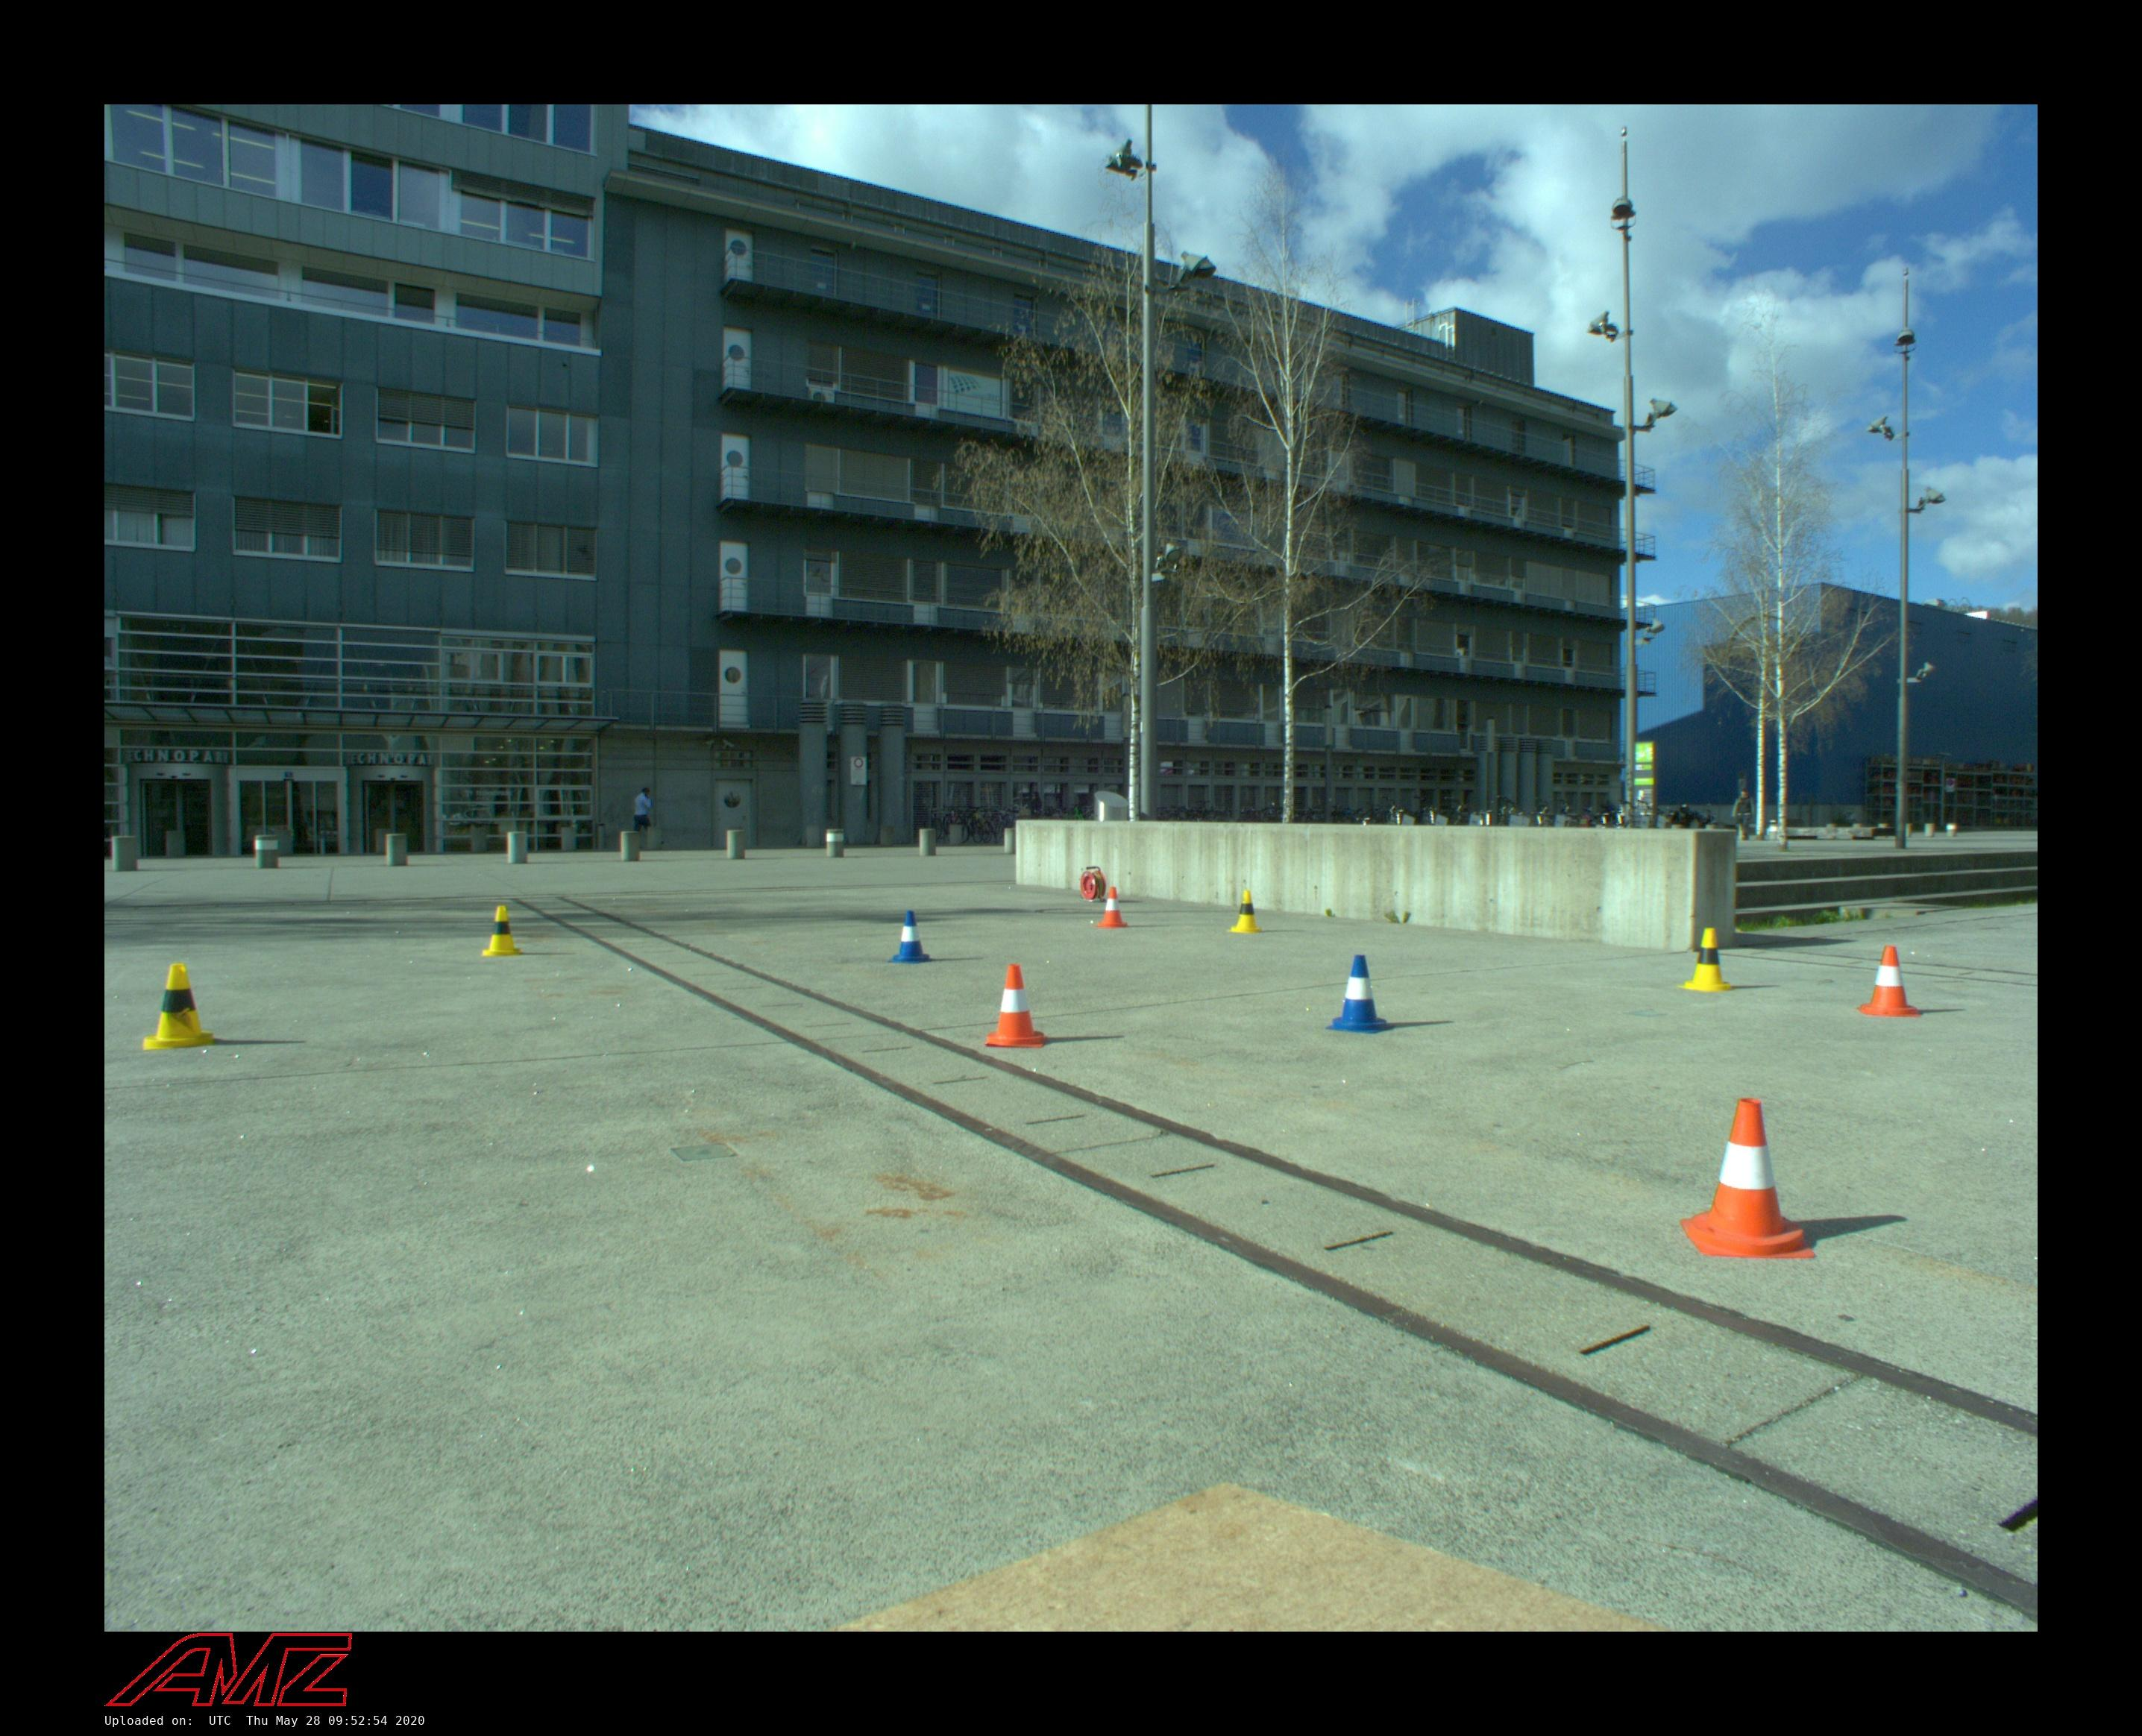blue_cone: (1325, 955, 1389, 1033), (888, 911, 934, 964)
orange_cone: (1680, 1098, 1812, 1258), (985, 964, 1047, 1049), (1857, 944, 1921, 1017), (1095, 887, 1129, 928)
yellow_cone: (142, 962, 218, 1050), (1678, 928, 1738, 992), (482, 905, 523, 957), (1226, 889, 1265, 934)
